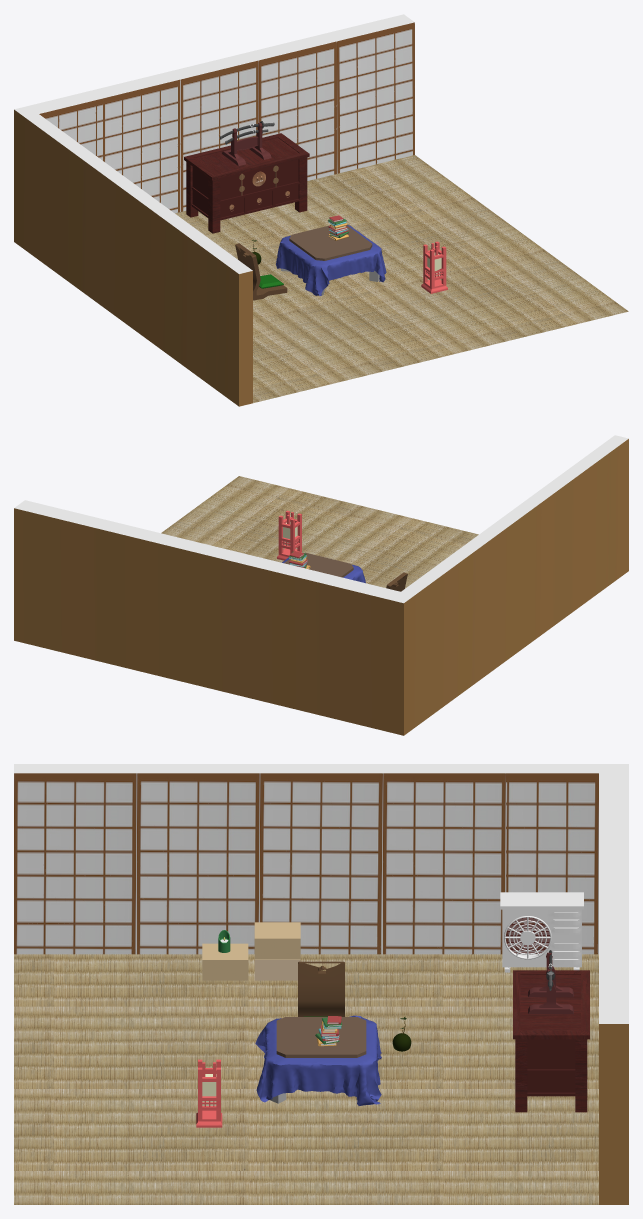
Rendered from Tea Room.glb.
3 views of the same model, one above another, from view 1: azimuth 30°, elevation 25°; view 2: azimuth 150°, elevation 25°; view 3: azimuth 270°, elevation 25° (orthographic). The views are drawn at different scales.
Parts seen in each view (by area): view 1: Object_27, Object_7, Object_34, Object_33, Object_5, Object_26, Object_35, Object_25, Object_24; view 2: Object_27, Object_7, Object_26, Object_24; view 3: Object_7, Object_27, Object_34, Object_5, Object_30, Object_33, Object_26, Object_25, Object_28, Object_32, Object_35, Object_29 (+2 smaller).
Part boxes in pixels (box(x1,y1,x2,y2)): Object_27: box(14, 14, 414, 406); Object_7: box(175, 155, 628, 403); Object_34: box(184, 133, 309, 233); Object_33: box(191, 159, 299, 220); Object_5: box(276, 225, 386, 295); Object_26: box(289, 225, 372, 260); Object_35: box(222, 122, 271, 165); Object_25: box(235, 243, 287, 300); Object_24: box(421, 241, 447, 293); Object_27: box(14, 435, 628, 735); Object_7: box(161, 476, 478, 588); Object_26: box(284, 552, 353, 577); Object_24: box(277, 510, 301, 560); Object_7: box(14, 954, 598, 1204); Object_27: box(14, 764, 628, 1204); Object_34: box(513, 970, 589, 1112); Object_5: box(255, 1015, 381, 1105); Object_30: box(500, 893, 583, 972); Object_33: box(506, 917, 575, 1096); Object_26: box(276, 1017, 366, 1057); Object_25: box(298, 961, 344, 1016); Object_28: box(254, 922, 300, 959); Object_32: box(202, 943, 248, 980); Object_35: box(224, 940, 573, 1014); Object_29: box(504, 916, 551, 959).
Bounding box in the file's own units: 400 × 130 × 400.
29 materials, 5 textured.
